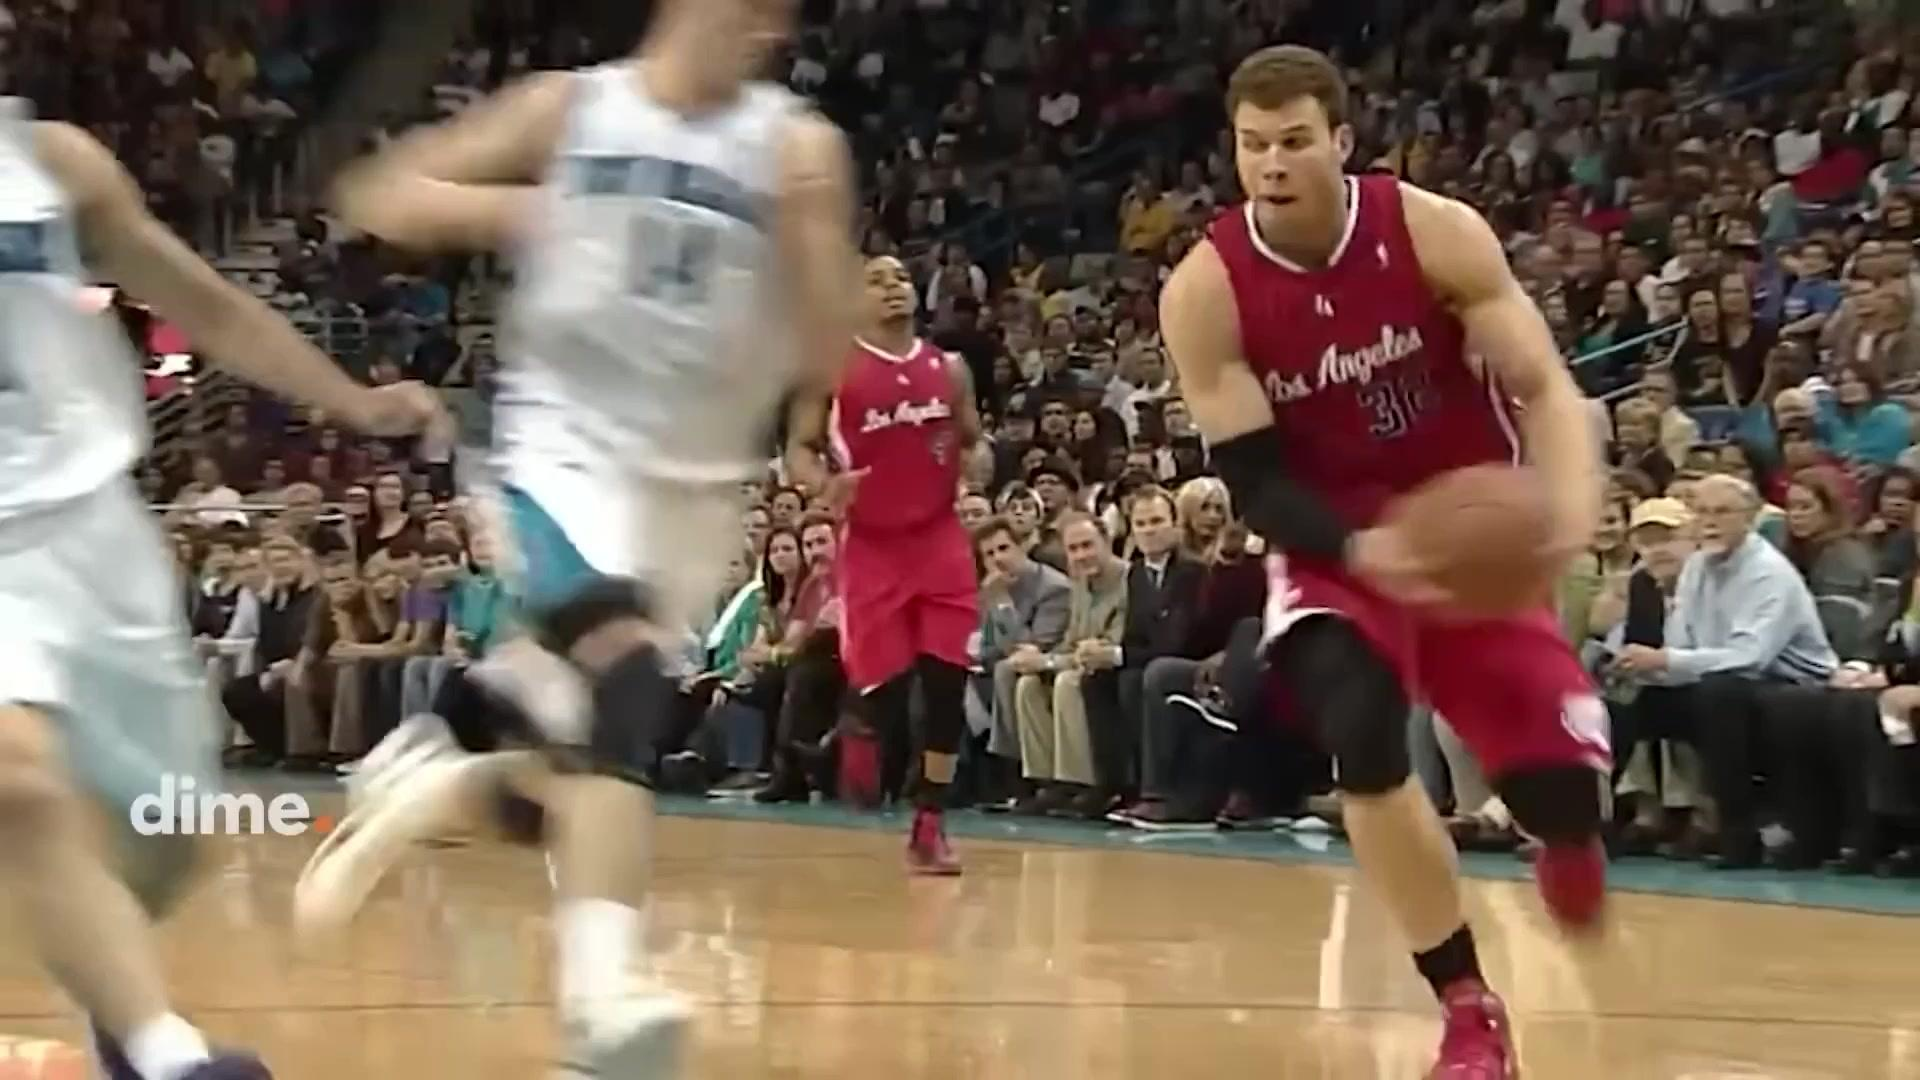no_foul: (398, 51, 1665, 1073)
